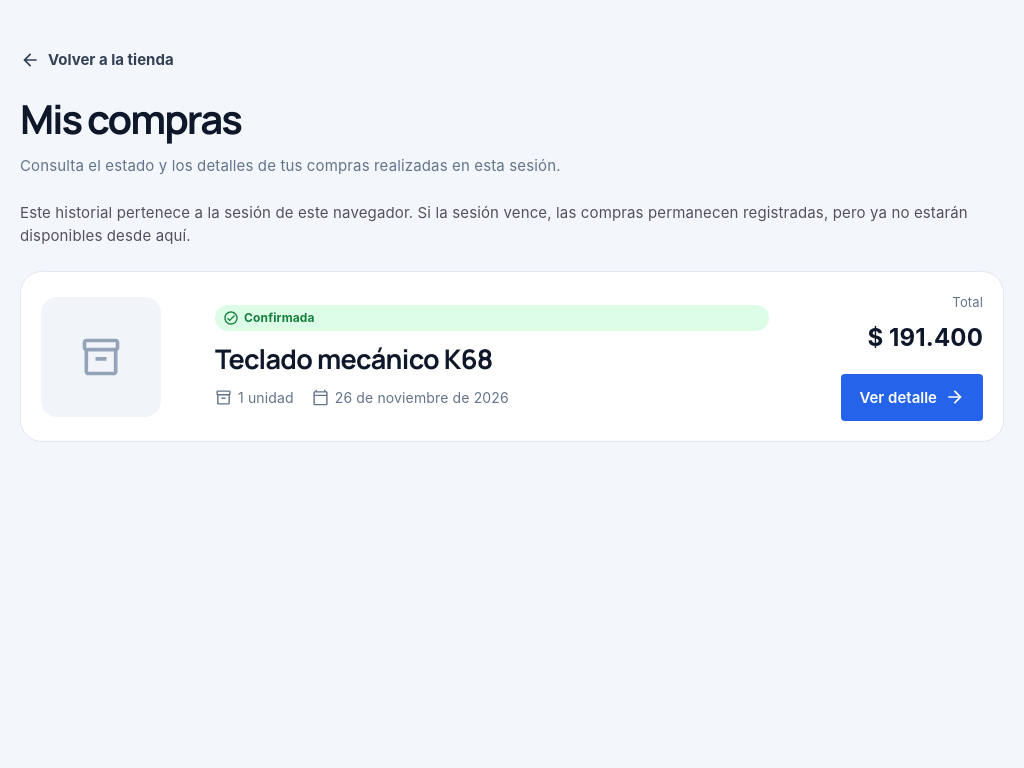
Test case: consultar historial o abrir detalle no ejecuta pago ni sincronización
The image size is (1024, 768).
Click the button "Ver detalle". click: point(912, 397)
box: [841,374,983,421]
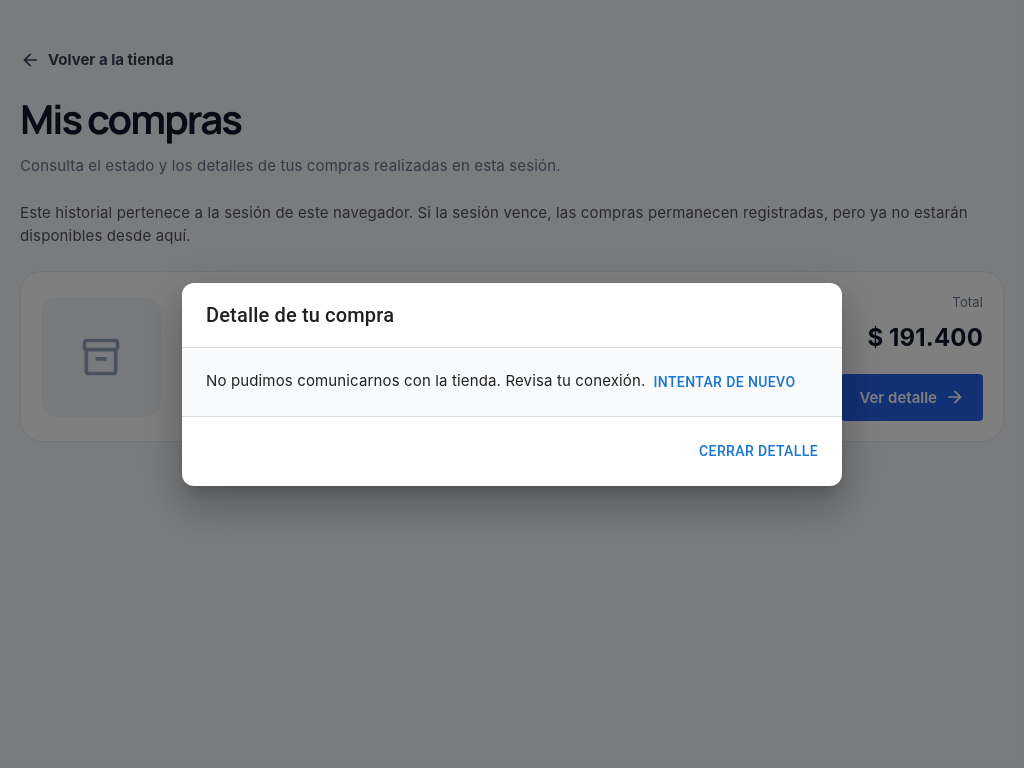
Expected: the dialog is shown, [182,282,842,486]
